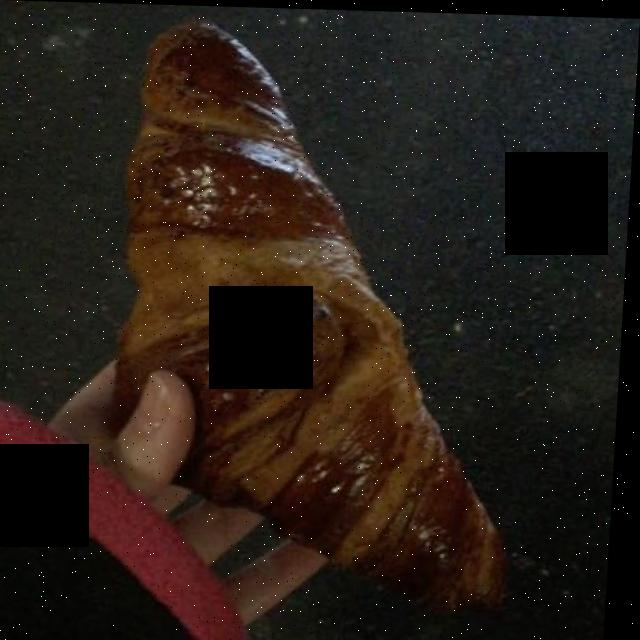croissant: (119, 19, 515, 613), (124, 25, 501, 594)
